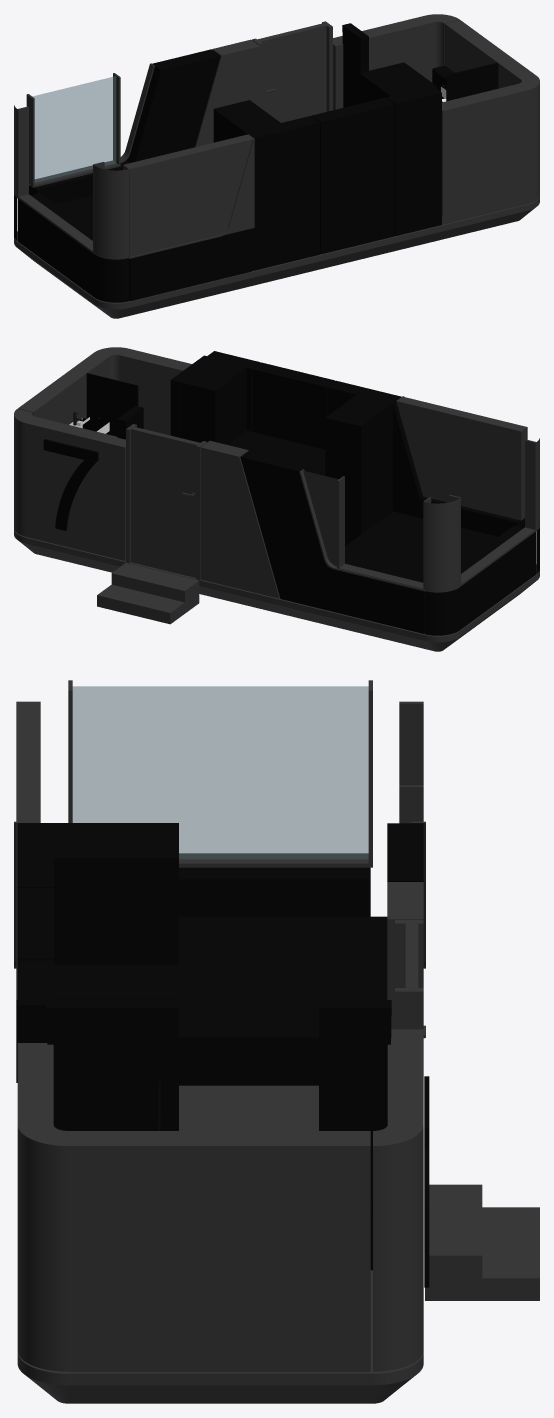
Rendered from pod-interior.glb.
3 renders of one model, top to bottom at view 1: azimuth 30°, elevation 25°; view 2: azimuth 150°, elevation 25°; view 3: azimuth 270°, elevation 25°, orthographic. The views are drawn at different scales.
Bounding box in the file's own units: 6.1 × 2.06 × 3.16.
